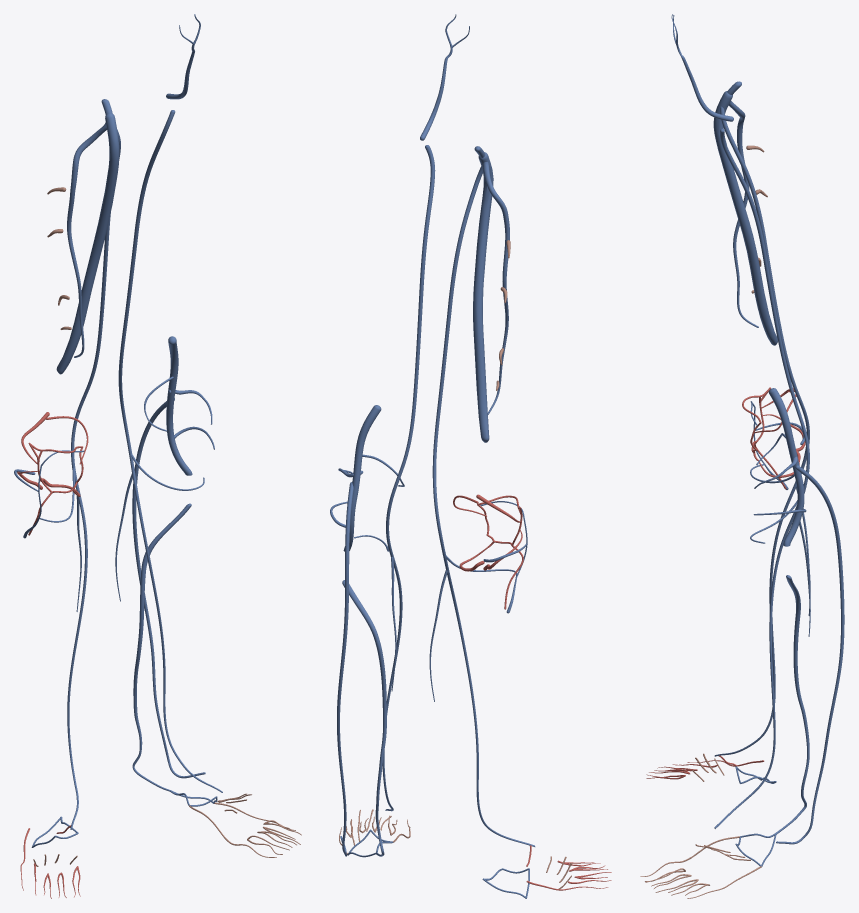
The model's file is other-30.glb.
The picture shows the model from 3 angles, left to right: view 1: azimuth 30°, elevation 25°; view 2: azimuth 150°, elevation 25°; view 3: azimuth 270°, elevation 25°; orthographic projection.
Parts seen in each view (by area): view 1: FJ2103, FJ2144, FJ2145, FJ2121, FJ2118, FJ2135, FJ2117, FJ2120; view 2: FJ2145, FJ2144, FJ2103, FJ2121, FJ2118, FJ2135, FJ2117, FJ2141, FJ2122; view 3: FJ2103, FJ2144, FJ2145, FJ2121, FJ2117, FJ2118, FJ2135, FJ2120, FJ2122, FJ2141, FJ2131.
Part boxes in pixels (<box>): FJ2103: <box>115,110,222,792</box>; FJ2144: <box>56,113,119,374</box>; FJ2145: <box>67,129,120,829</box>; FJ2121: <box>132,398,205,778</box>; FJ2118: <box>132,503,191,791</box>; FJ2135: <box>67,99,112,357</box>; FJ2117: <box>166,336,192,475</box>; FJ2120: <box>189,802,301,857</box>; FJ2145: <box>429,166,535,846</box>; FJ2144: <box>473,152,493,442</box>; FJ2103: <box>382,145,435,811</box>; FJ2121: <box>337,482,353,856</box>; FJ2118: <box>342,580,386,856</box>; FJ2135: <box>474,146,509,414</box>; FJ2117: <box>343,405,381,551</box>; FJ2141: <box>526,860,611,890</box>; FJ2122: <box>420,14,469,140</box>; FJ2103: <box>714,128,810,828</box>; FJ2144: <box>713,91,777,345</box>; FJ2145: <box>714,106,810,756</box>; FJ2121: <box>776,465,844,844</box>; FJ2117: <box>768,388,804,546</box>; FJ2118: <box>775,575,809,834</box>; FJ2135: <box>727,81,758,327</box>; FJ2120: <box>640,836,761,898</box>; FJ2122: <box>671,14,733,121</box>; FJ2141: <box>646,760,764,779</box>; FJ2131: <box>742,387,786,489</box>.
Bounding box in the file's own units: 0.339 × 1.01 × 0.2242.
